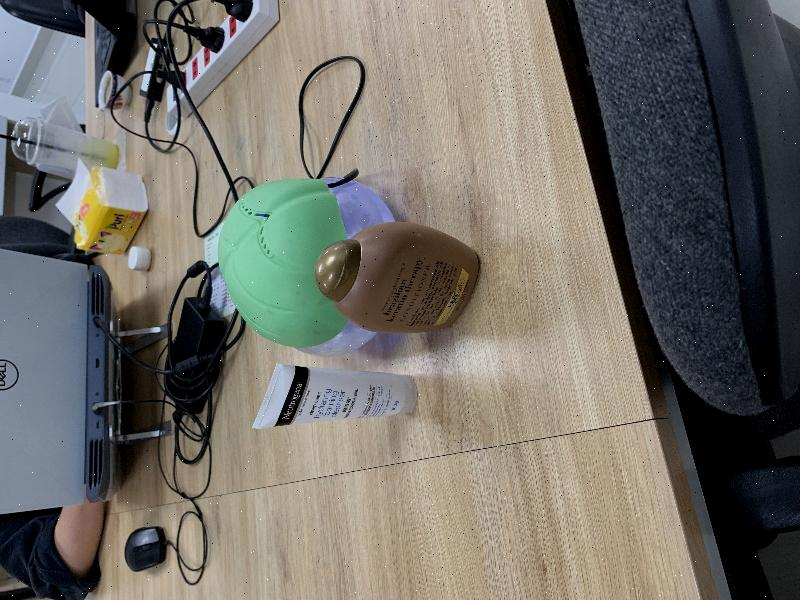BrazilianKerationTherapy_Conditioner: (316, 222, 479, 333)
HydratingFoamingCleanser: (252, 363, 418, 430)
